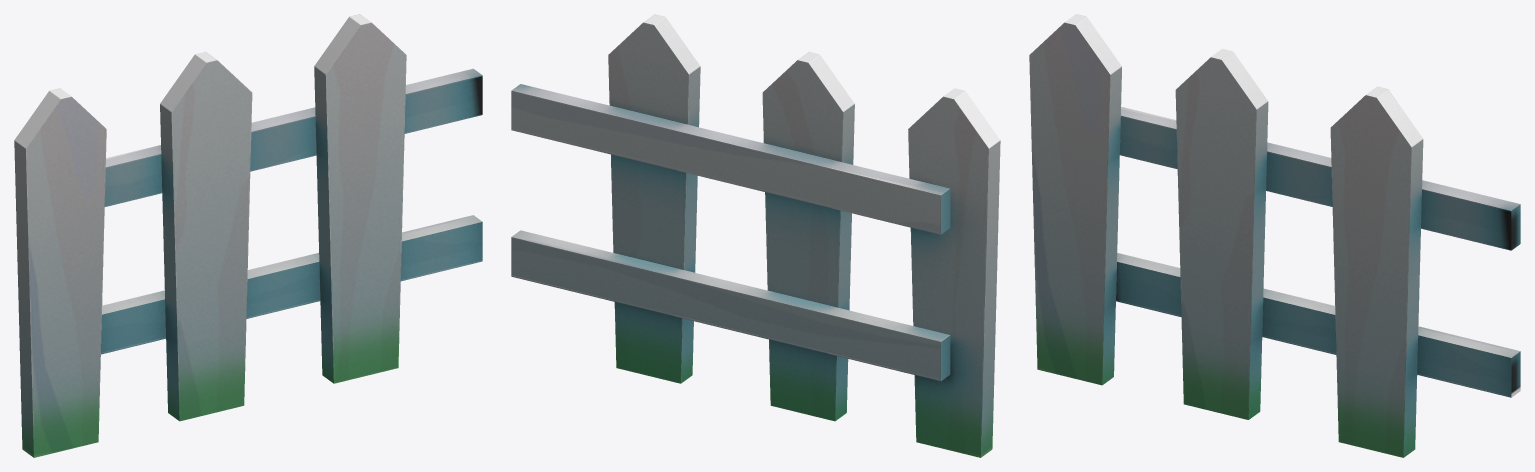
File: fence_tile.FBX
The picture shows the model from 3 angles, left to right: view 1: azimuth 30°, elevation 25°; view 2: azimuth 150°, elevation 25°; view 3: azimuth 330°, elevation 25°; orthographic projection.
Visible parts, largest first — view 1: fence_tile; view 2: fence_tile; view 3: fence_tile.
Part boxes in pixels (x1,y1,x2,y2): fence_tile: (14, 14, 482, 457); fence_tile: (511, 14, 1000, 457); fence_tile: (1029, 14, 1520, 457).
Size of the model in its own units: 166 by 120 by 12.79.
